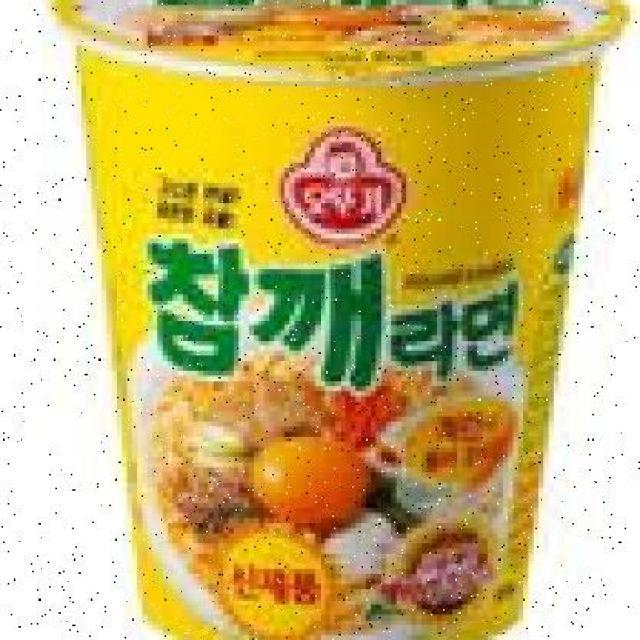Miscellaneous: (51, 0, 624, 640)
